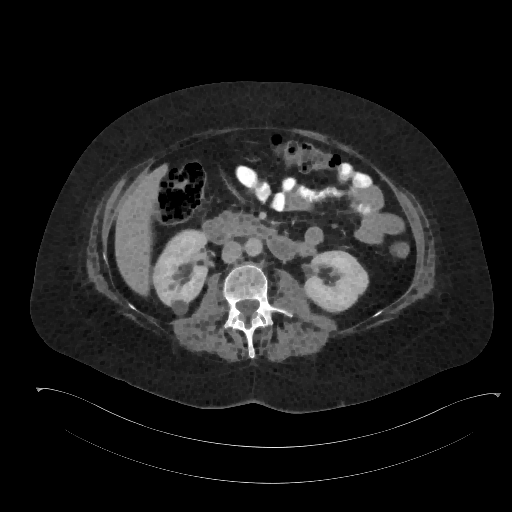Lesion: (171, 296, 190, 317)
